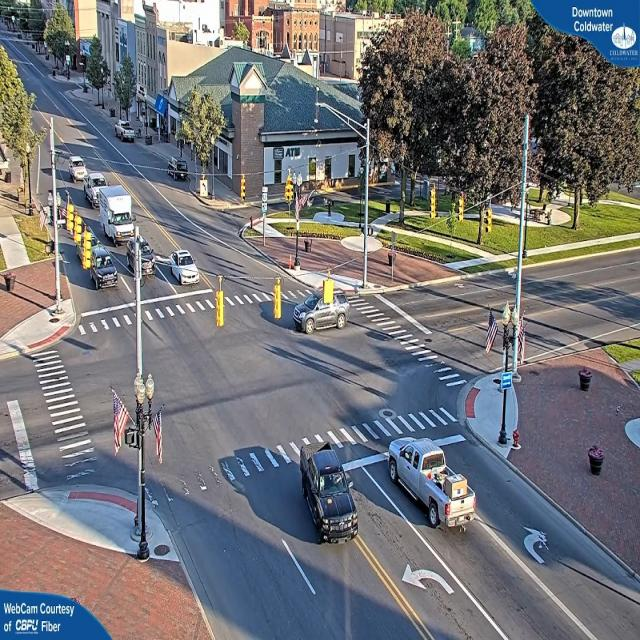car: (383, 440, 477, 537), (297, 446, 358, 544), (292, 287, 350, 336), (127, 235, 159, 279), (164, 251, 200, 287), (91, 246, 118, 292), (586, 442, 606, 476), (117, 123, 136, 143)
truck: (95, 181, 137, 246)
